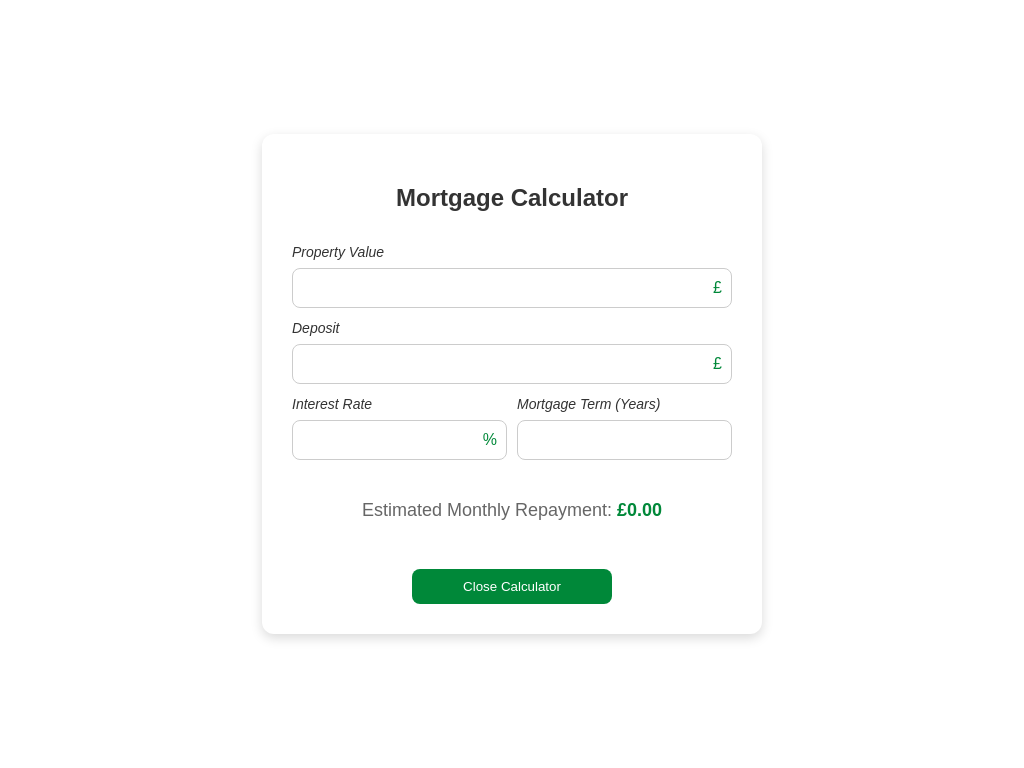
it: MortgageCalculator › MortgageCalculator Component › updates monthly repayment when valid inputs are entered
The width and height of the screenshot is (1024, 768).
Type "200000" into the number field labelled "Property Value" at (512, 288), box [292,268,732,308]
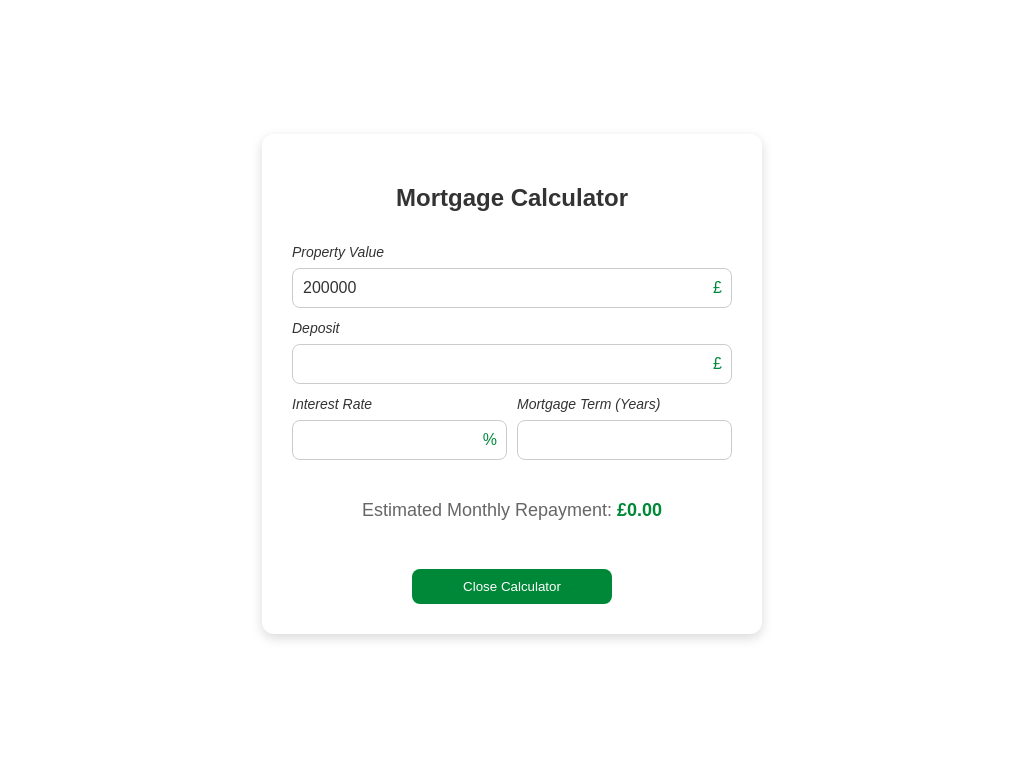
Type "40000" into the number field labelled "Deposit" at (512, 364), box [292,344,732,384]
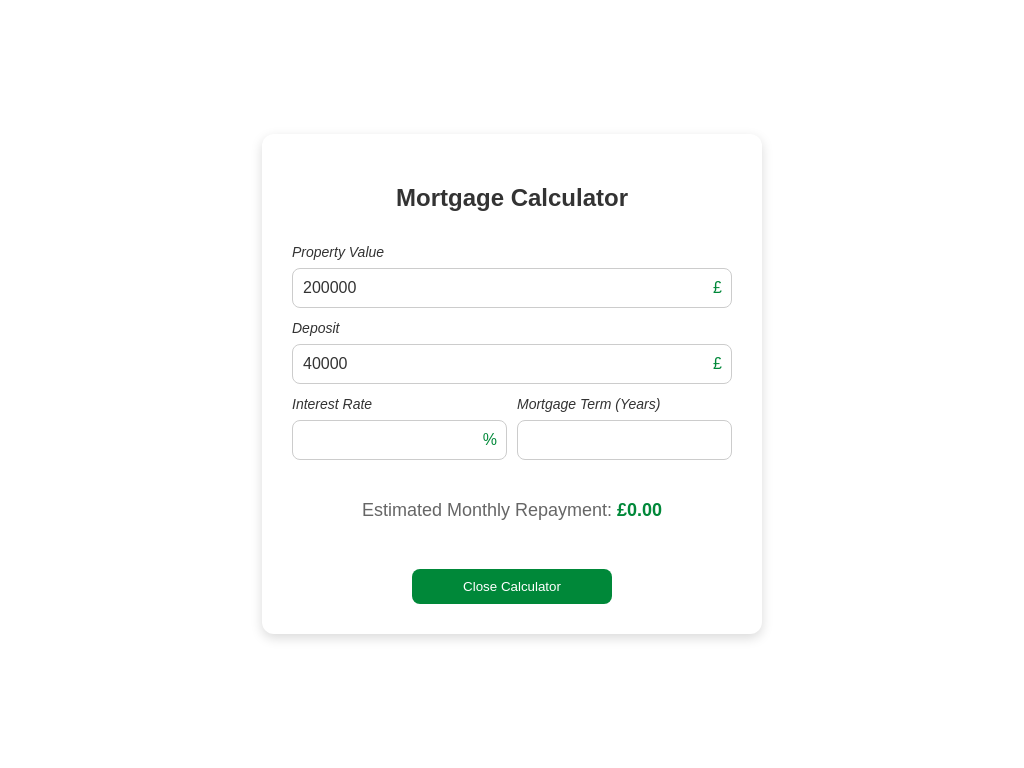
Type "3" into the number field labelled "Interest Rate" at (400, 440), box [292,420,507,460]
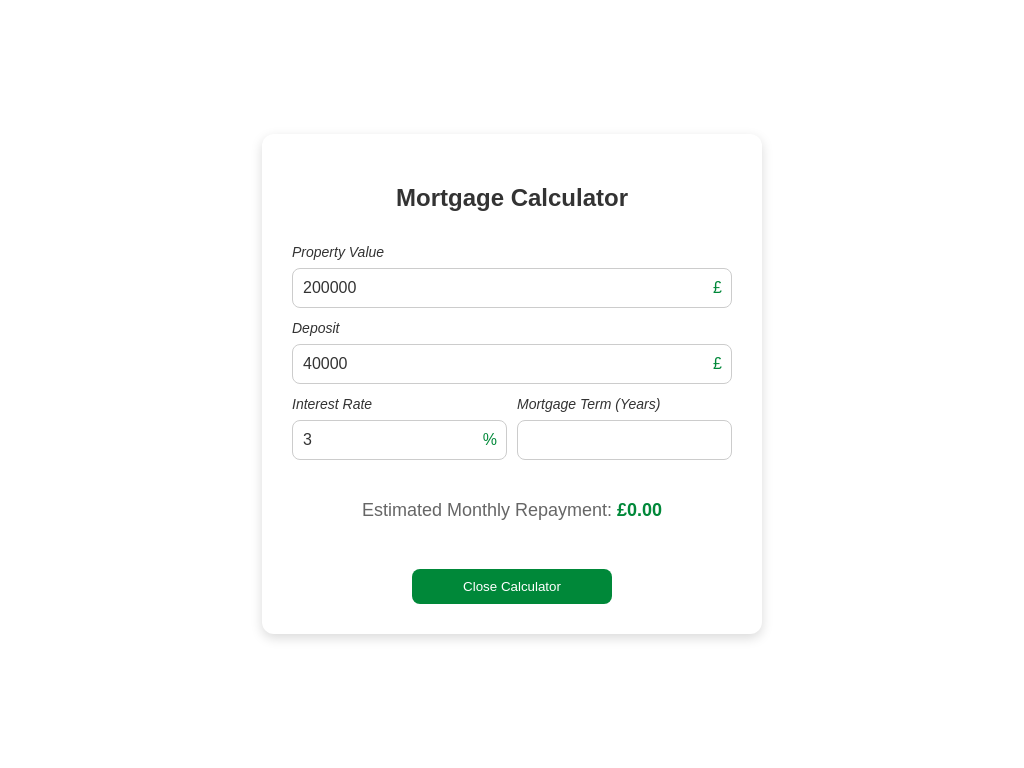
Type "25" into the number field labelled "Mortgage Term (Years)" at (624, 440), box [517,420,732,460]
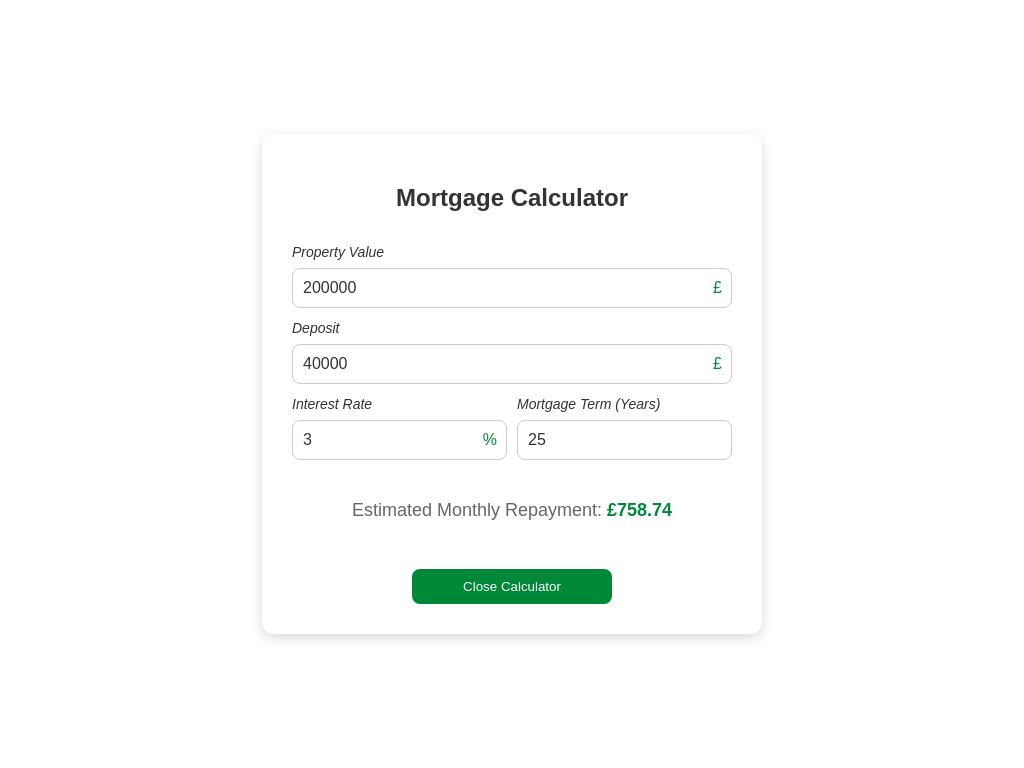
Expected: the text "£758.74" is shown, [607,500,672,520]
